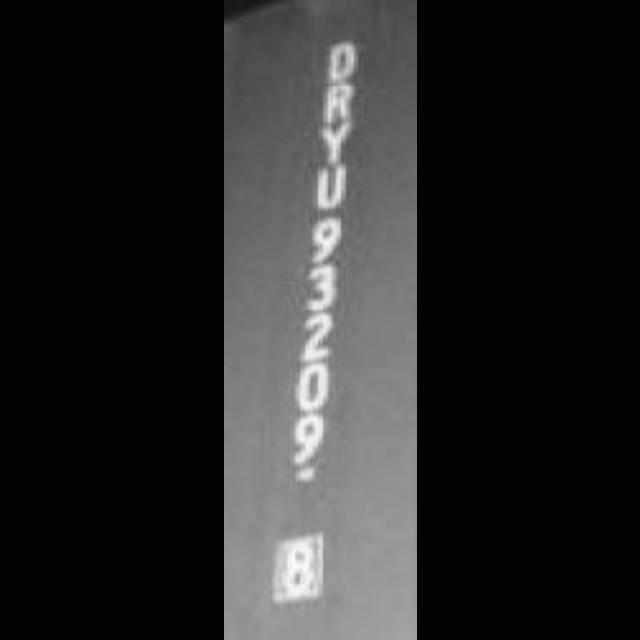0: (290, 362, 338, 420)
2: (290, 307, 342, 369)
3: (296, 261, 340, 311)
8: (276, 532, 322, 602)
9: (302, 213, 346, 273), (283, 412, 327, 470)
d: (316, 32, 360, 84)
r: (310, 78, 362, 132)
u: (308, 164, 354, 218)
y: (310, 122, 354, 168)
